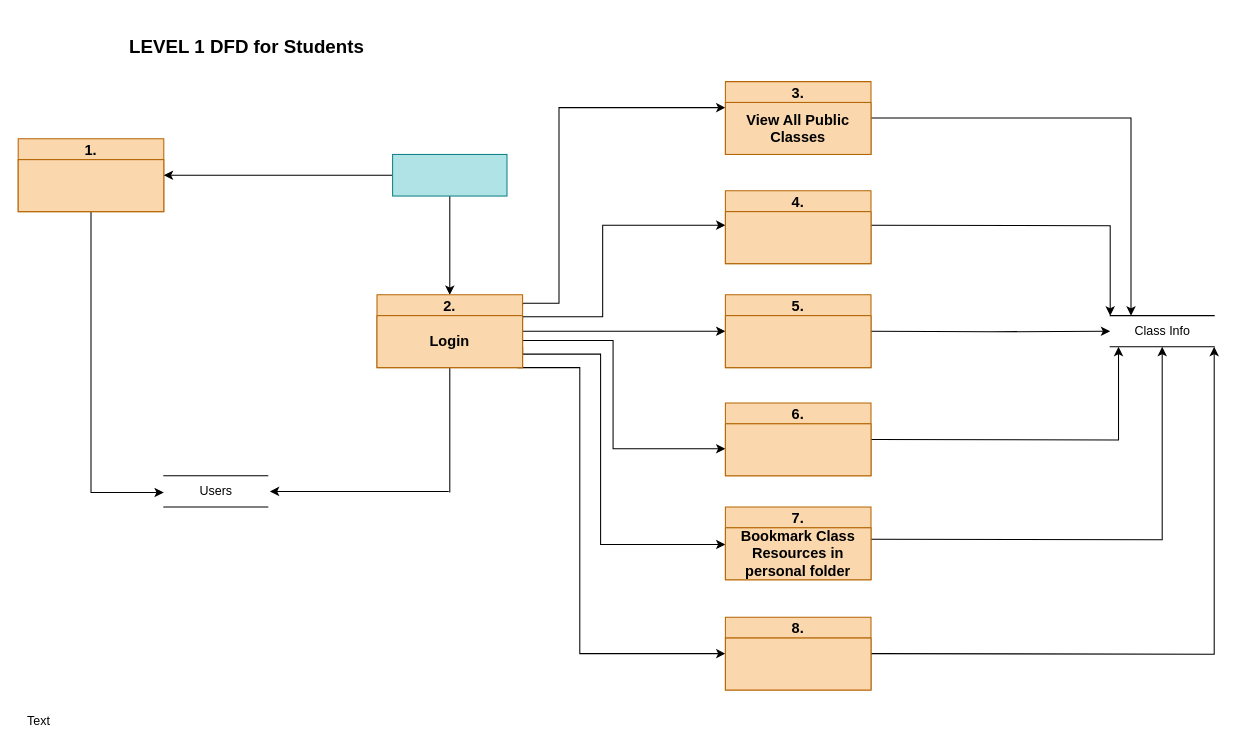
The diagram is 1241 pixels wide and 749 high, and some of its shapes have lost their labels. Here are the shapes that lost their labels. From the top down, the box of each, then its label:
(17, 159, 164, 212): Register
(392, 153, 507, 196): User
(724, 211, 871, 264): Join/Leave Class
(724, 315, 871, 368): Attend Live Class and use Live Class Tool
(724, 423, 871, 476): Group Chat with other Class Students
(724, 637, 871, 690): View Class Announcements
